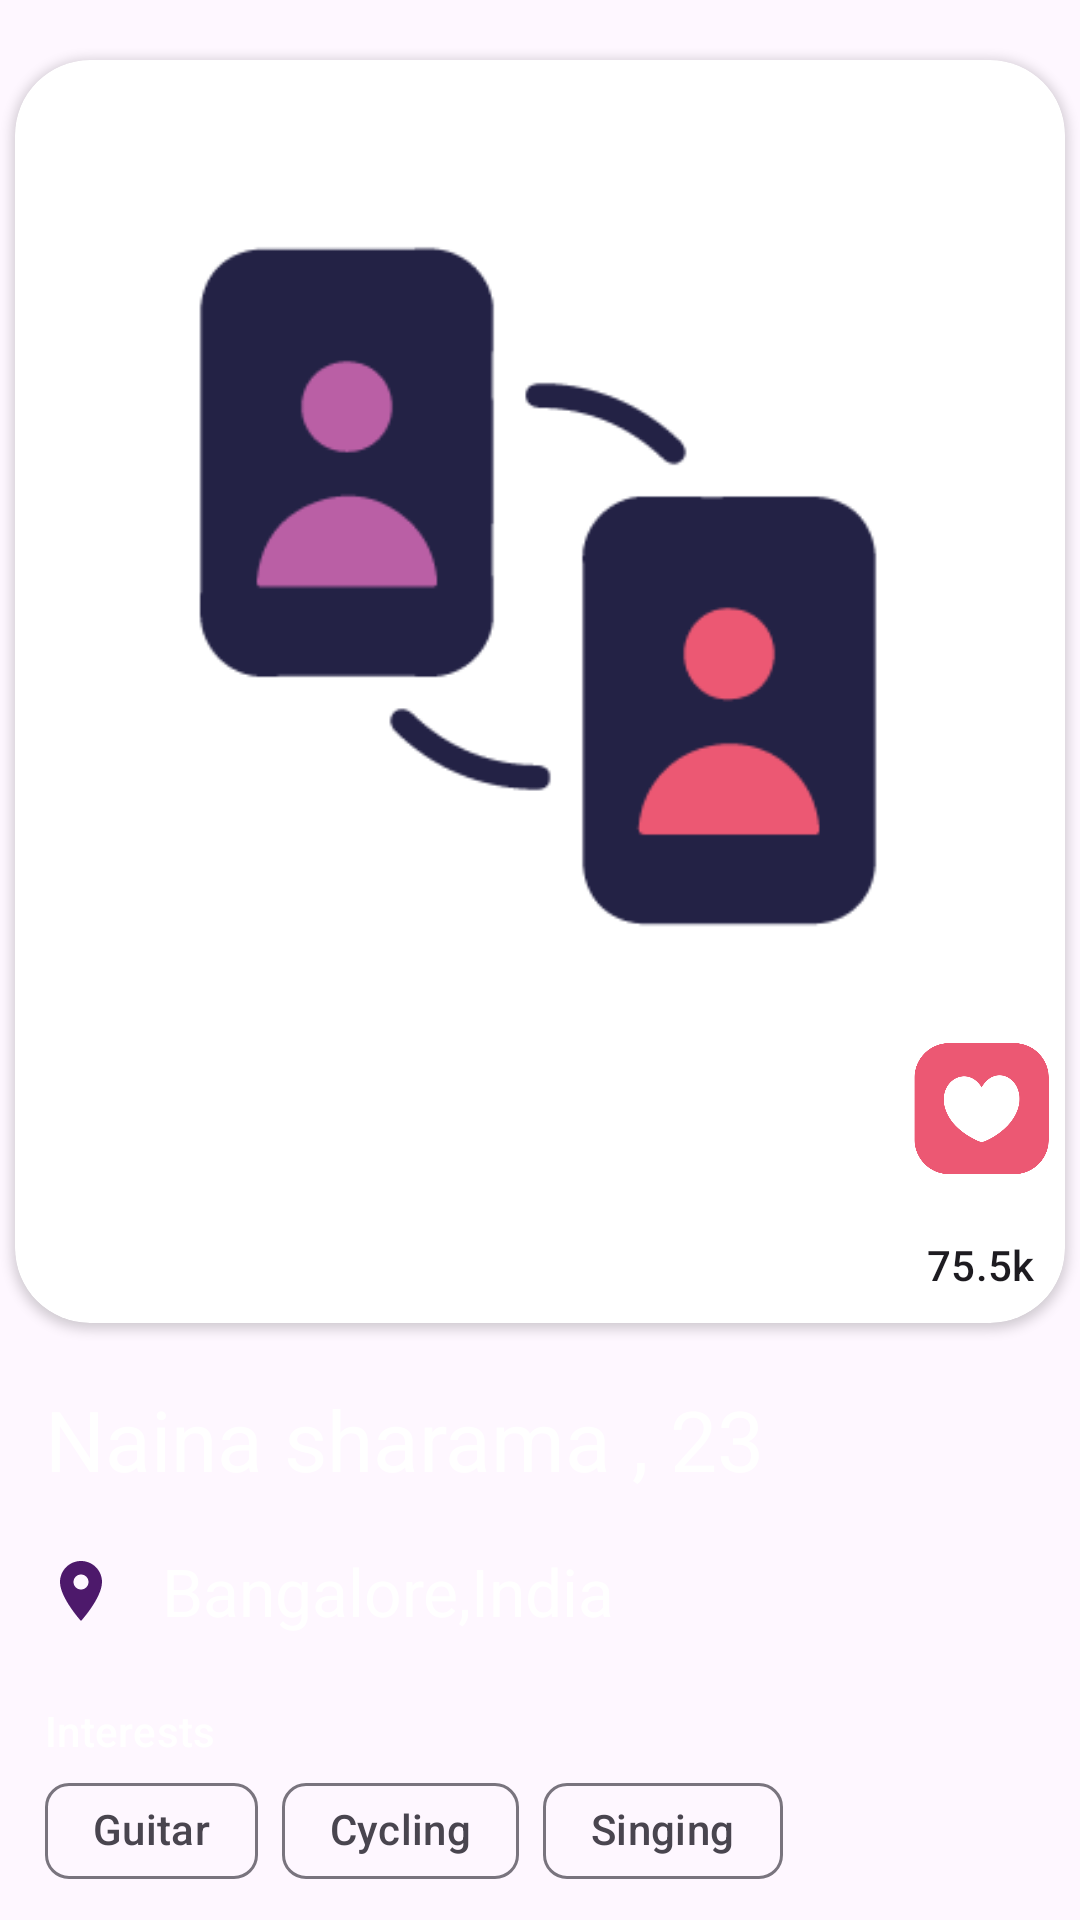

Icon bounding boxes for this 1080 × 1920 phone screenshot, format (x1=x1, y1=y1, x2=x2, y2=y2):
location on: (x1=60, y1=1561, x2=102, y2=1621)
viewpagerlikeicon: (x1=914, y1=1043, x2=1049, y2=1174)
